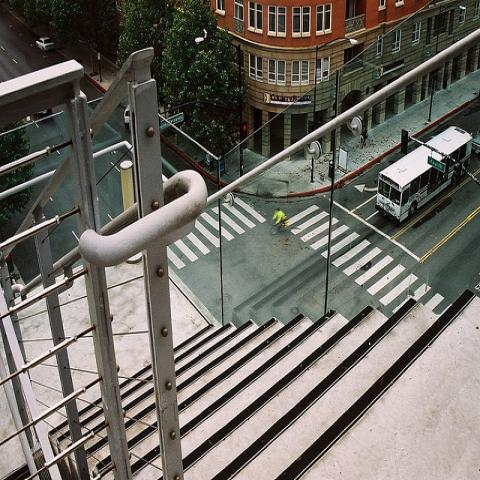bus: (376, 125, 473, 223)
car: (35, 36, 55, 52), (124, 104, 130, 128)
